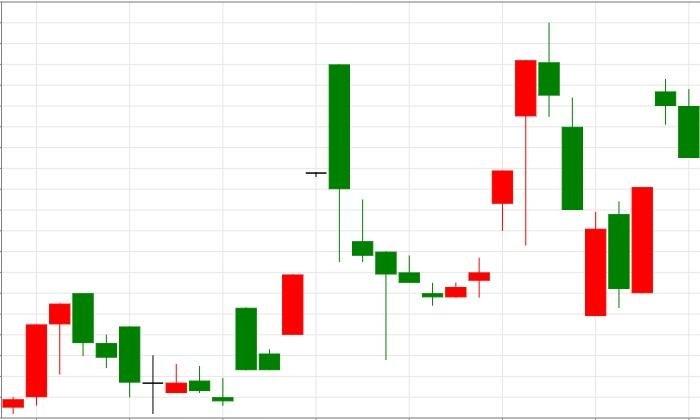hanging_man_fall: (421, 60, 537, 306)
